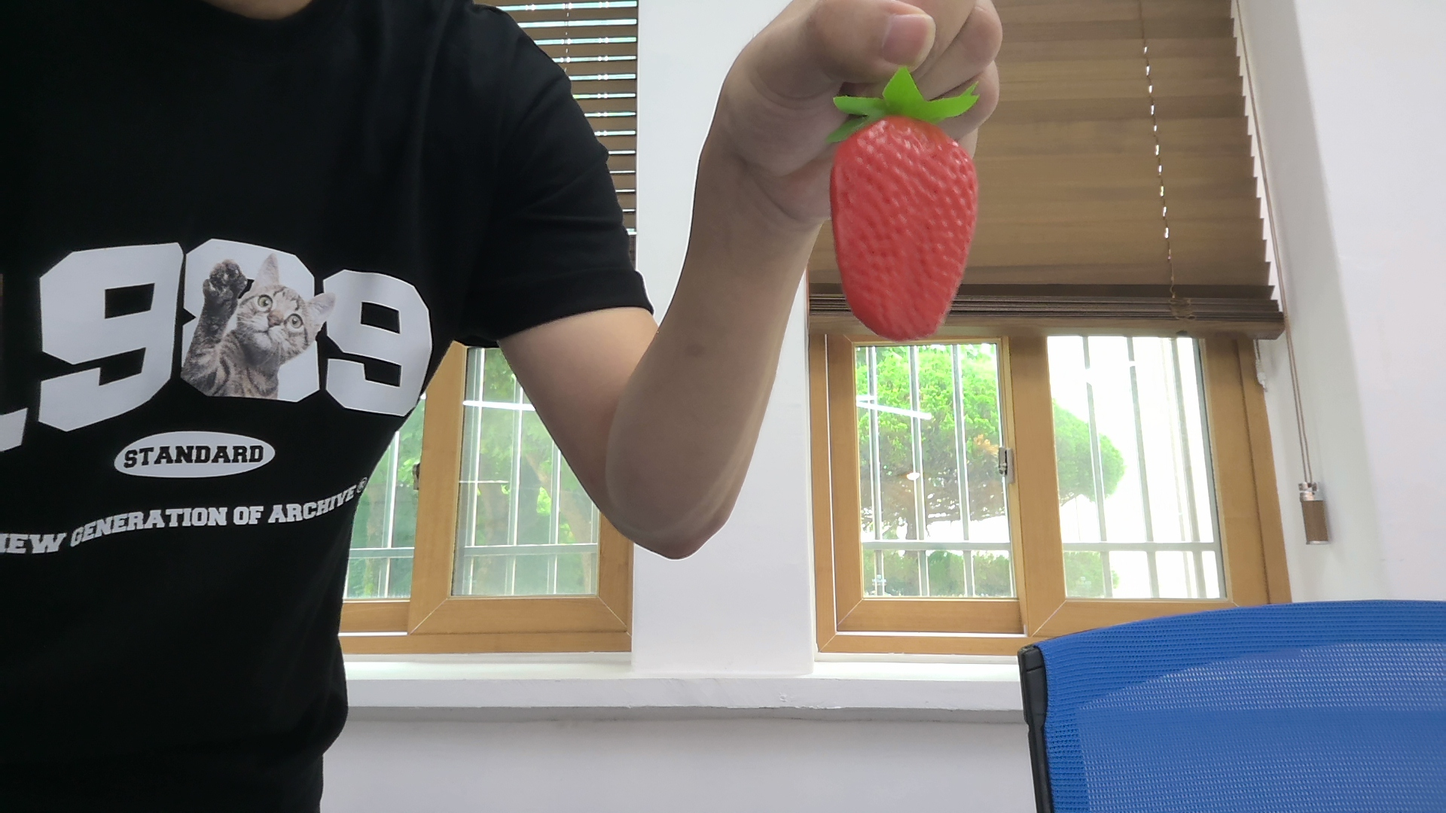strawberry: (817, 97, 987, 342)
